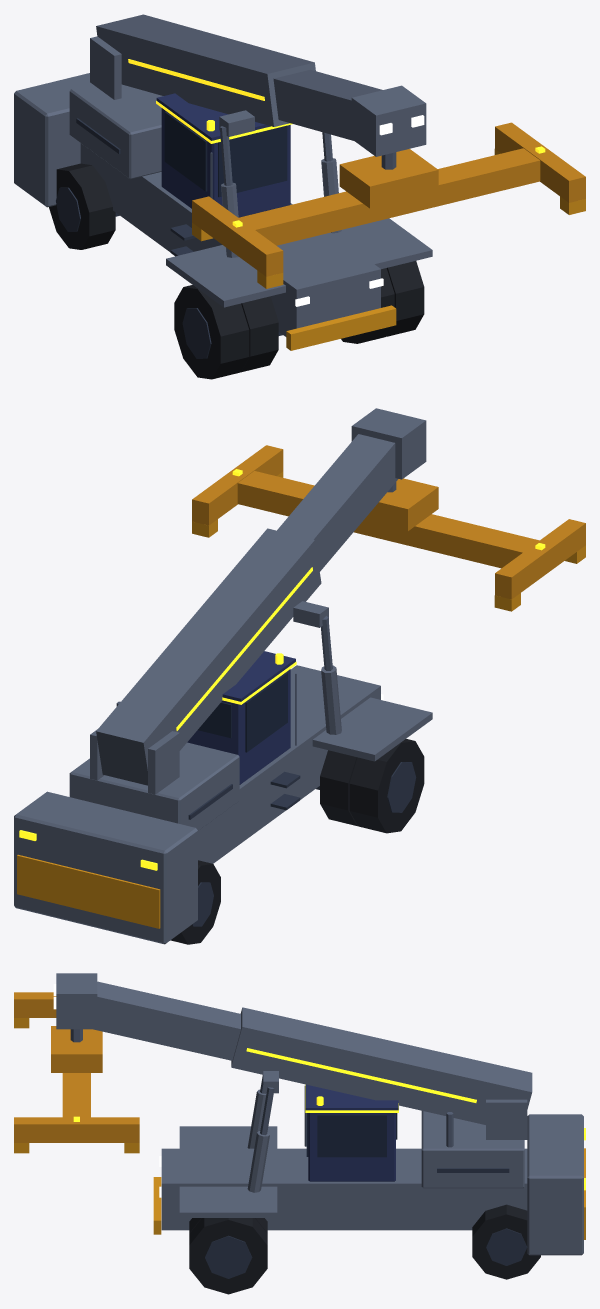
File: port_reach_stacker.glb
3 views of the same model, one above another, from view 1: azimuth 30°, elevation 25°; view 2: azimuth 150°, elevation 25°; view 3: azimuth 270°, elevation 25° (orthographic). The views are drawn at different scales.
Parts seen in each view (by area): view 1: body, spreader, wheel, cab_glass, cab, hazard, running_gear, amber_light, hydraulics, headlight; view 2: body, spreader, wheel, hazard, cab, cab_glass, running_gear, amber_light, hydraulics; view 3: body, spreader, wheel, cab, cab_glass, running_gear, amber_light, hazard, hydraulics.
Boxes of the visible parts, x1,y1,x2,y2 form: body: (14,14,432,336); spreader: (192,122,585,276); wheel: (49,163,424,379); cab_glass: (164,111,287,197); cab: (156,93,290,217); hazard: (192,149,585,350); running_gear: (56,118,282,358); amber_light: (128,59,545,227); hydraulics: (210,126,396,198); headlight: (295,115,424,306); body: (14,408,432,944); spreader: (192,445,585,599); wheel: (170,739,424,944); hazard: (17,471,585,928); cab: (187,651,295,784); cab_glass: (198,672,287,752); running_gear: (188,762,416,926); amber_light: (19,469,545,870); hydraulics: (116,482,396,745); body: (56,973,583,1255); spreader: (14,992,139,1142); wheel: (189,1204,540,1294); cab: (305,1084,398,1181); cab_glass: (306,1113,397,1157); running_gear: (204,1168,527,1278); amber_light: (73,1048,585,1190); hazard: (14,1018,585,1239); hydraulics: (70,1029,453,1147).
Bounding box in the file's own units: 6.06 × 5.76 × 11.1.
